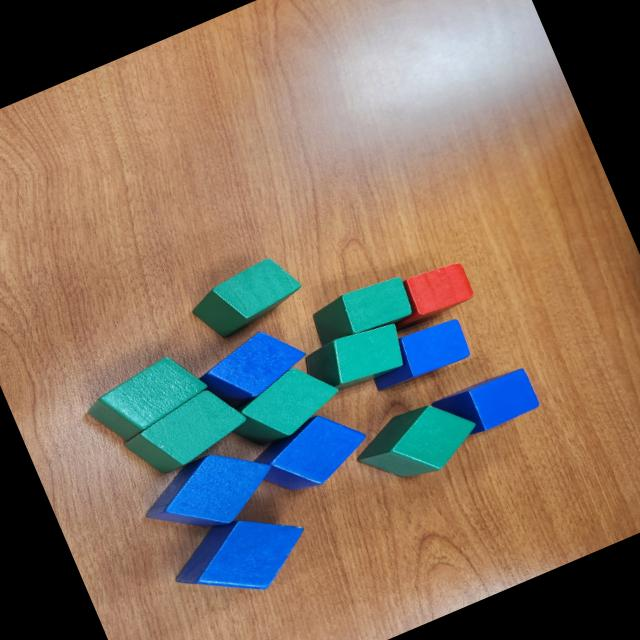blue: (159, 492, 320, 621), (130, 432, 286, 556), (245, 399, 378, 506), (190, 318, 316, 419), (425, 362, 542, 450), (359, 313, 474, 395)
green: (346, 385, 490, 501), (115, 378, 253, 485), (214, 352, 348, 458), (78, 346, 215, 449), (182, 248, 310, 346), (299, 313, 412, 401), (306, 268, 419, 352)
red: (384, 254, 479, 330)
